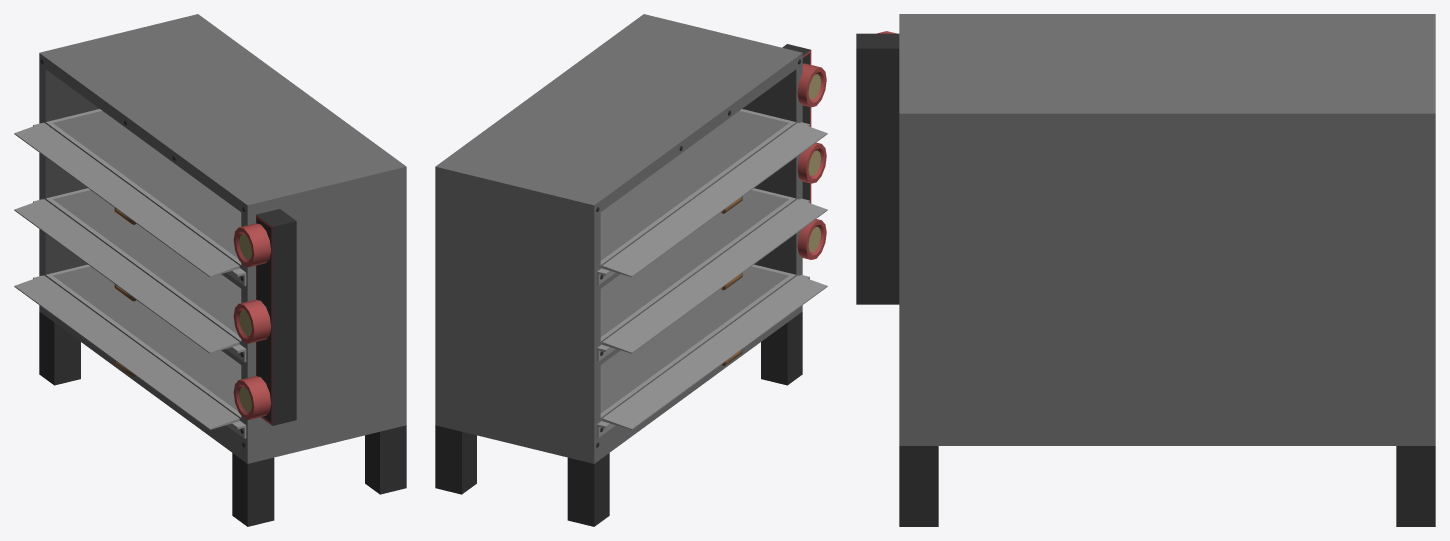
File: Horno.FBX
The picture shows the model from 3 angles, left to right: view 1: azimuth 30°, elevation 25°; view 2: azimuth 150°, elevation 25°; view 3: azimuth 270°, elevation 25°; orthographic projection. The views are drawn at different scales.
Parts seen in each view (by area): view 1: Box009; view 2: Box009; view 3: Box009.
Part boxes in pixels (x1=…): Box009: x1=14, y1=14, x2=406, y2=526; Box009: x1=435, y1=14, x2=827, y2=526; Box009: x1=856, y1=14, x2=1435, y2=526.
Bounding box in the file's own units: 180 × 368 × 290.
